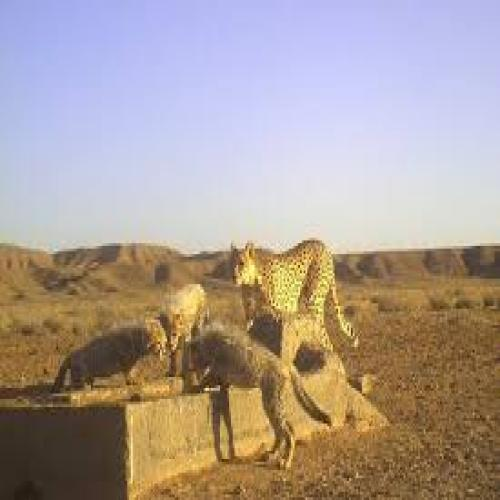cheetah-endangered: (182, 324, 340, 480), (219, 228, 362, 366), (47, 311, 172, 405), (157, 274, 209, 383)
